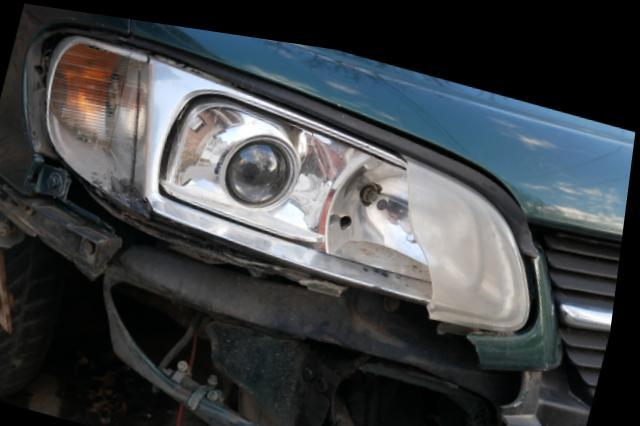lamp broken: (34, 34, 536, 319)
no part: (0, 161, 567, 426)
